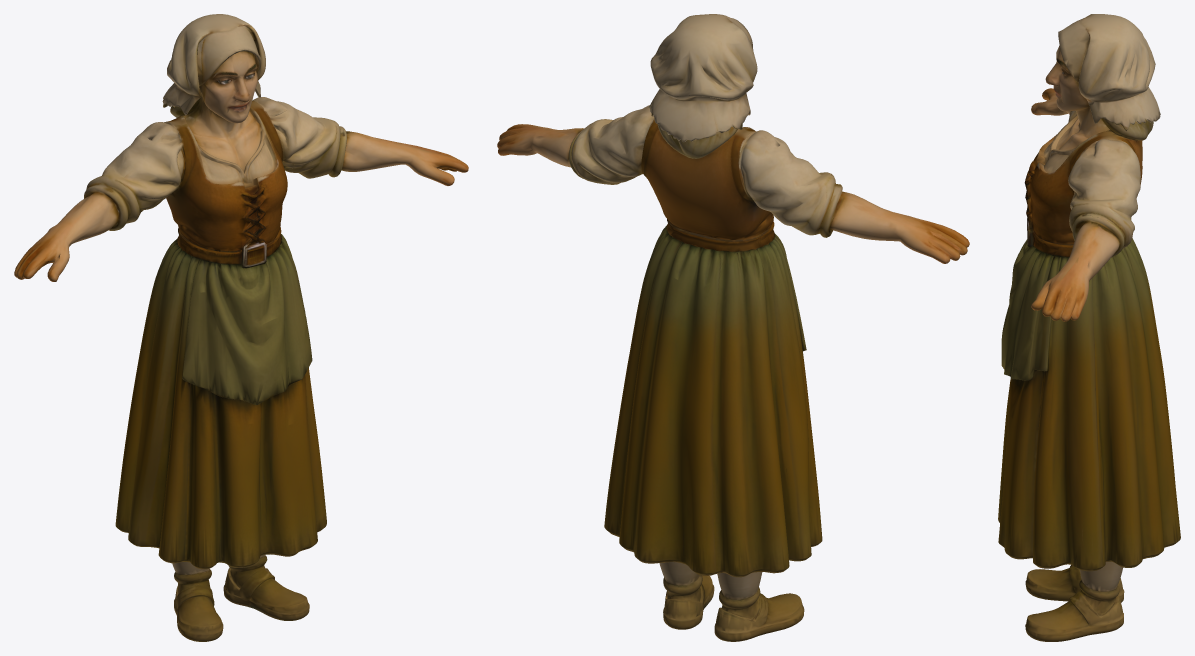
Rendered from Campesina T-Pose.fbx.
3 renders of one model, left to right at view 1: azimuth 30°, elevation 25°; view 2: azimuth 150°, elevation 25°; view 3: azimuth 270°, elevation 25°, orthographic. The views are drawn at different scales.
Visible parts, largest first — view 1: texture_pbr_v128; view 2: texture_pbr_v128; view 3: texture_pbr_v128.
Part boxes in pixels (x1,y1,x2,y2): texture_pbr_v128: (14, 14, 468, 641); texture_pbr_v128: (497, 14, 969, 641); texture_pbr_v128: (998, 14, 1180, 641).
Bounding box in the file's own units: 93.66 × 116 × 32.52.
Materials: 1 (1 with a texture image).
